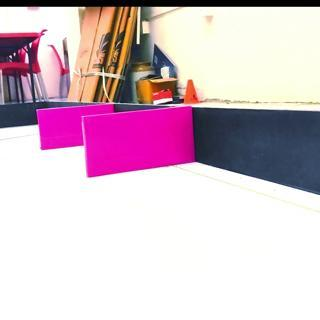xparking: (83, 115, 192, 169), (37, 107, 81, 145)
